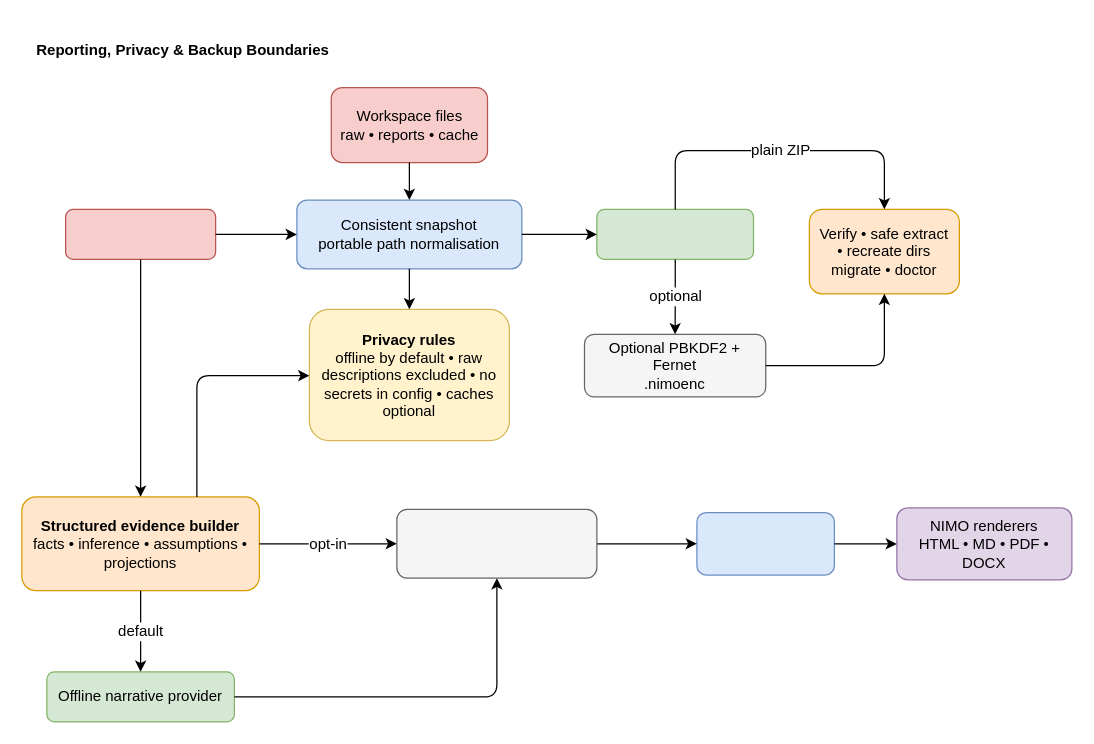
The diagram is 1094 pixels wide and 744 high, and some of its shapes have lost their labels. Here are the shapes that lost their labels. From the top down, the centre of each, then its label:
At (140,233): "Per-user database".
At (675,233): "SHA-256 backup manifest".
At (496,543): "Optional OpenAI provider schema-validated narrative".
At (765,543): "ReportNarrative schema".
